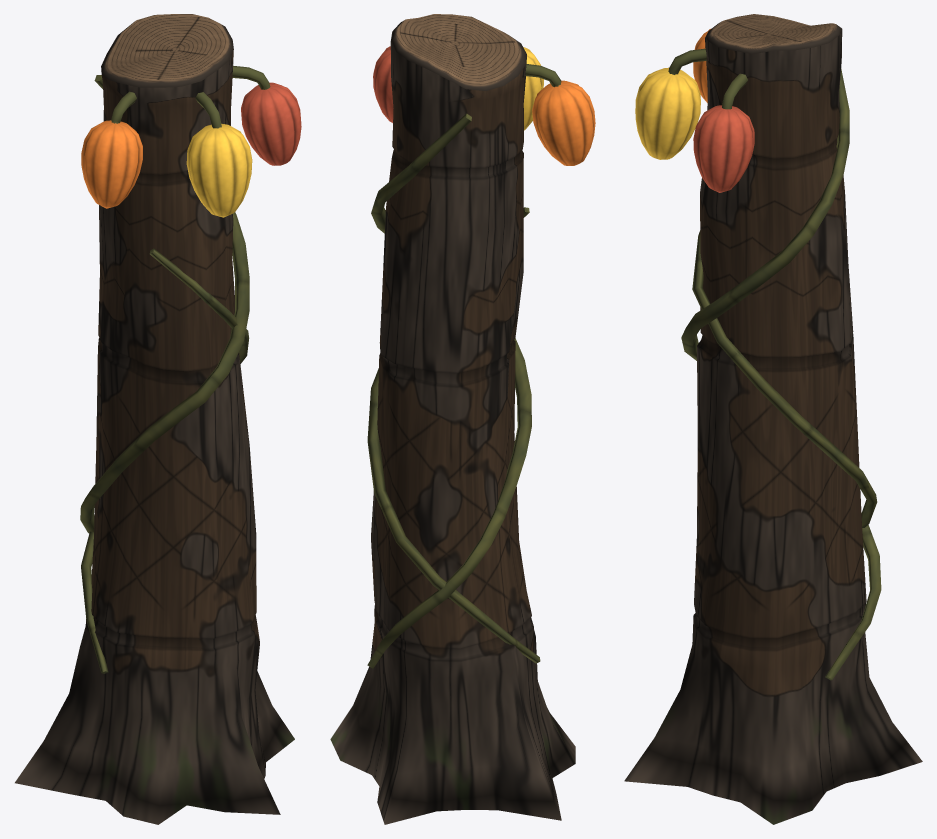
File: totem_warp_cuyabeno_hp_LOD1.glb
The picture shows the model from 3 angles, left to right: view 1: azimuth 30°, elevation 25°; view 2: azimuth 150°, elevation 25°; view 3: azimuth 270°, elevation 25°; orthographic projection.
Visible parts, largest first — view 1: Totem_LOD1; view 2: Totem_LOD1; view 3: Totem_LOD1.
Boxes of the visible parts, x1,y1,x2,y2 form: Totem_LOD1: (15, 14, 301, 824); Totem_LOD1: (330, 14, 595, 824); Totem_LOD1: (624, 14, 922, 824).
Bounding box in the file's own units: 0.95 × 2.61 × 0.95.
Materials: 1 (1 with a texture image).
